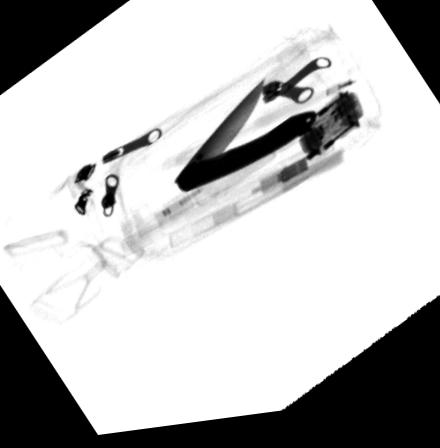Knife: (173, 83, 318, 200)
